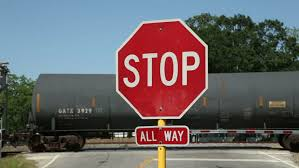Stop: (112, 17, 210, 115)
